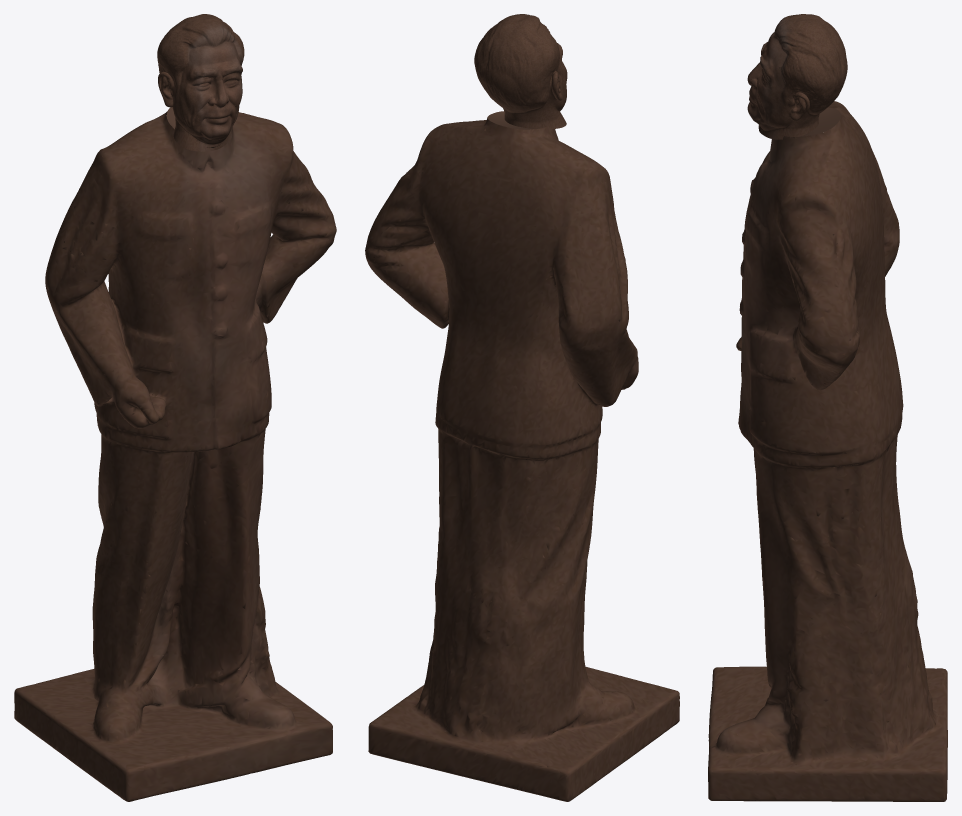
The model's file is zhou-statue-realistic.glb.
The picture shows the model from 3 angles, left to right: view 1: azimuth 30°, elevation 25°; view 2: azimuth 150°, elevation 25°; view 3: azimuth 270°, elevation 25°; orthographic projection. The views are drawn at different scales.
Visible parts, largest first — view 1: Zhou_Enlai_Zhongshan_suit_photo_reconstruction, Zhou_Enlai_detailed_face_brows_eyelids_hair; view 2: Zhou_Enlai_Zhongshan_suit_photo_reconstruction, Zhou_Enlai_detailed_face_brows_eyelids_hair; view 3: Zhou_Enlai_Zhongshan_suit_photo_reconstruction, Zhou_Enlai_detailed_face_brows_eyelids_hair, neck_contour_stitch.
Boxes of the visible parts, x1=… form: Zhou_Enlai_Zhongshan_suit_photo_reconstruction: x1=14, y1=111, x2=336, y2=801; Zhou_Enlai_detailed_face_brows_eyelids_hair: x1=157, y1=14, x2=244, y2=151; Zhou_Enlai_Zhongshan_suit_photo_reconstruction: x1=365, y1=118, x2=679, y2=801; Zhou_Enlai_detailed_face_brows_eyelids_hair: x1=474, y1=14, x2=567, y2=128; Zhou_Enlai_Zhongshan_suit_photo_reconstruction: x1=708, y1=101, x2=947, y2=801; Zhou_Enlai_detailed_face_brows_eyelids_hair: x1=747, y1=14, x2=847, y2=139; neck_contour_stitch: x1=758, y1=107, x2=840, y2=136.
Bounding box in the file's own units: 0.7757 × 2 × 0.5856.
